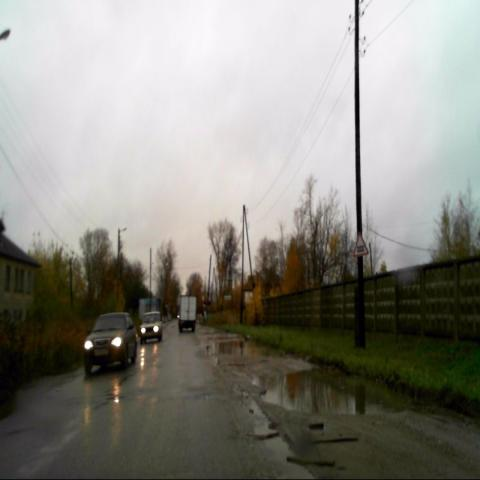1_1: (352, 231, 370, 258)
